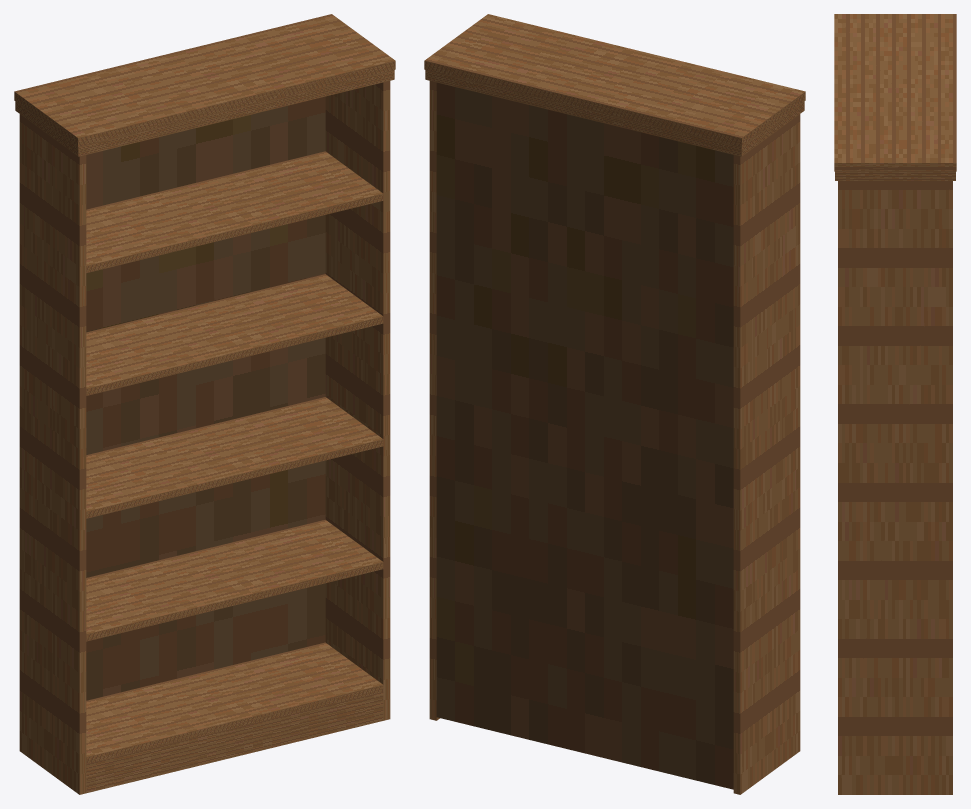
The model's file is Bookcase_Empty_Normal.fbx.
The picture shows the model from 3 angles, left to right: view 1: azimuth 30°, elevation 25°; view 2: azimuth 150°, elevation 25°; view 3: azimuth 270°, elevation 25°; orthographic projection. The views are drawn at different scales.
Parts seen in each view (by area): view 1: Bookcase_Empty.001; view 2: Bookcase_Empty.001; view 3: Bookcase_Empty.001.
Boxes of the visible parts, x1,y1,x2,y2 form: Bookcase_Empty.001: (14,14,395,794); Bookcase_Empty.001: (424,14,805,794); Bookcase_Empty.001: (834,14,956,794).
Size of the model in its own units: 92 by 183 by 32.
